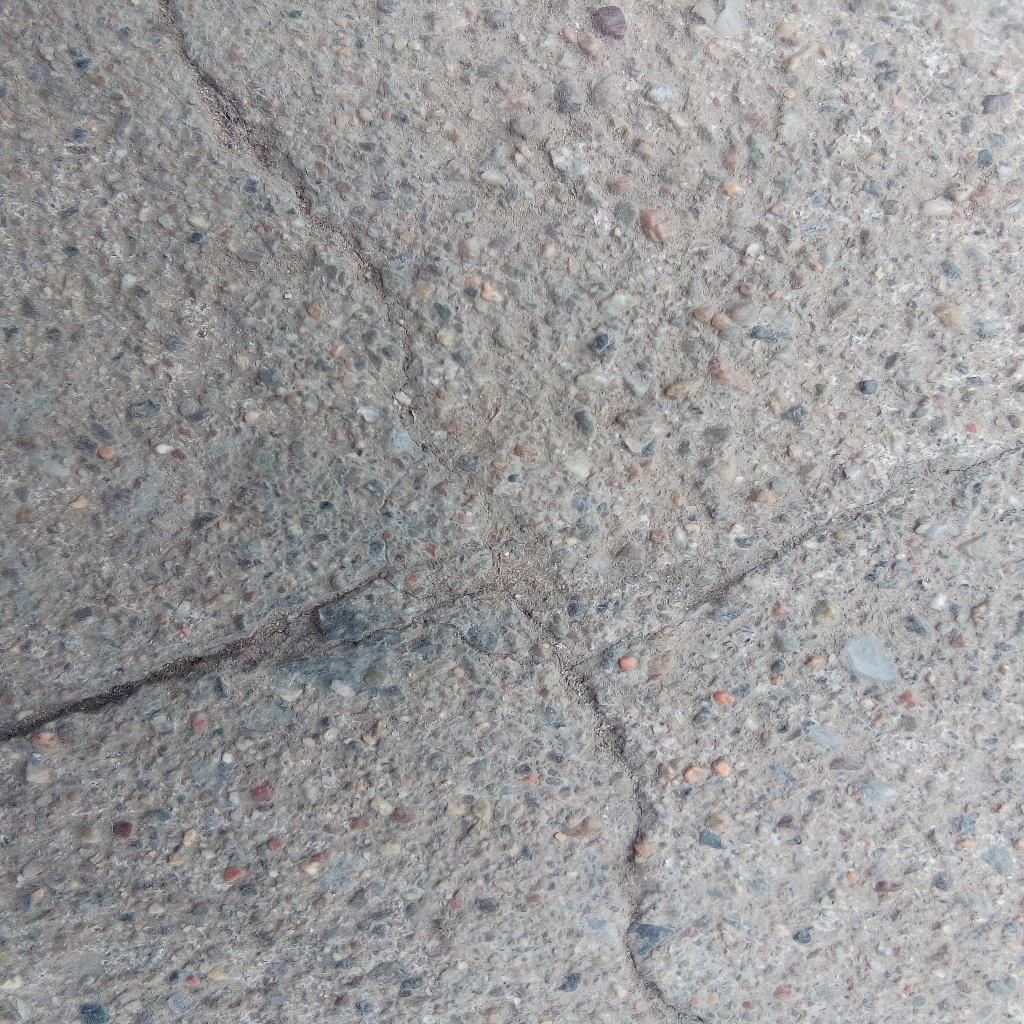Crack: (161, 1, 489, 548), (570, 446, 1024, 675), (1, 547, 489, 747), (570, 675, 705, 1024)
